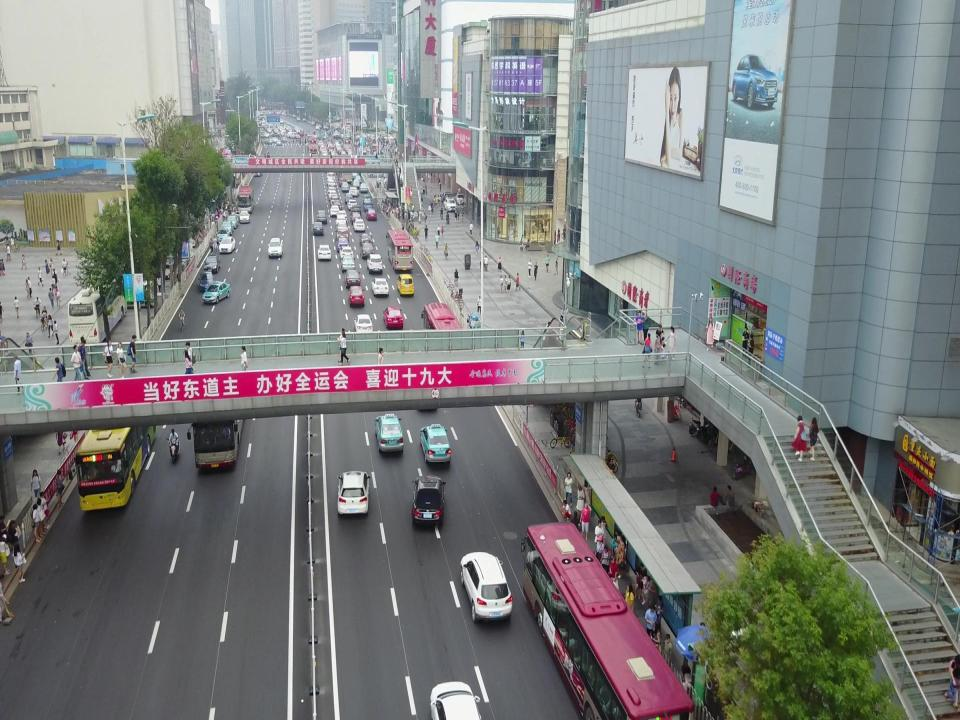bus: (518, 522, 696, 720), (72, 373, 158, 513), (184, 344, 252, 475), (420, 299, 472, 376), (385, 228, 415, 272), (236, 183, 256, 214)
car: (458, 548, 514, 625), (427, 679, 485, 720), (408, 474, 446, 529), (334, 467, 372, 518), (418, 422, 452, 467), (373, 411, 405, 454), (202, 279, 232, 306), (382, 305, 404, 330), (396, 272, 416, 299), (352, 312, 374, 335), (346, 283, 366, 308), (370, 276, 390, 299), (365, 252, 384, 276), (266, 236, 284, 260), (199, 269, 215, 295), (344, 267, 362, 290), (204, 253, 222, 276), (218, 235, 236, 255), (317, 242, 333, 263), (340, 253, 356, 274), (215, 226, 231, 245), (338, 244, 354, 262), (359, 241, 375, 257), (314, 209, 328, 226), (220, 218, 234, 234), (352, 217, 366, 233), (443, 196, 457, 212), (337, 234, 349, 251), (227, 214, 239, 231), (252, 161, 264, 178), (366, 169, 388, 178), (359, 232, 373, 246), (335, 228, 349, 242), (312, 221, 325, 236), (237, 209, 250, 224), (365, 207, 377, 222), (336, 220, 348, 234), (350, 211, 362, 225), (440, 191, 452, 203), (350, 203, 361, 215), (348, 186, 360, 197), (344, 191, 354, 204), (455, 192, 465, 205), (329, 194, 339, 207), (337, 209, 347, 221), (336, 215, 346, 226), (330, 205, 340, 216), (364, 201, 374, 212), (347, 199, 358, 209), (332, 201, 342, 212), (340, 181, 350, 192), (363, 193, 372, 205), (328, 192, 338, 201), (360, 182, 368, 193), (338, 178, 348, 186), (328, 180, 336, 188), (326, 176, 334, 184), (352, 179, 360, 187), (354, 174, 362, 182), (328, 187, 336, 194), (327, 172, 335, 179)
